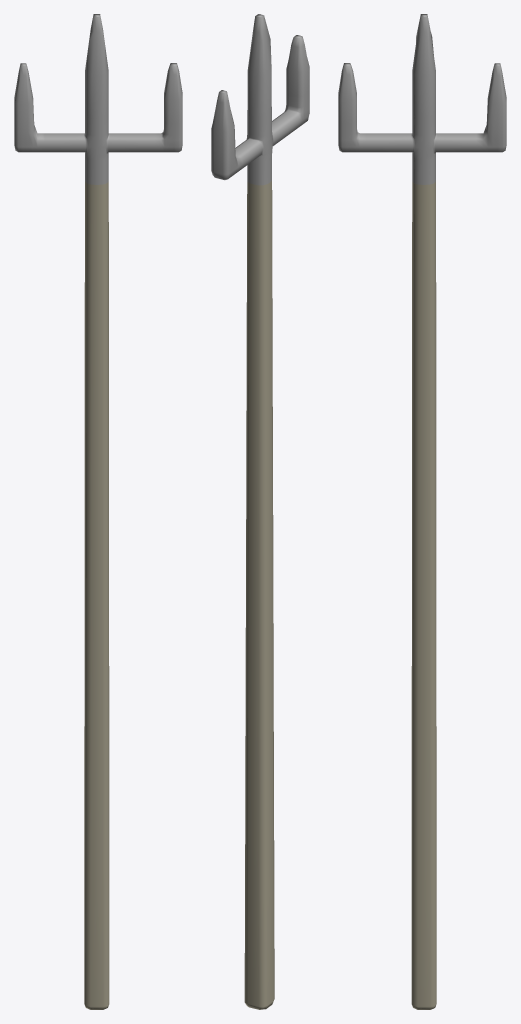
The model's file is pitchfork.fbx.
3 renders of one model, left to right at view 1: azimuth 90°, elevation 25°; view 2: azimuth 150°, elevation 25°; view 3: azimuth 270°, elevation 25°, orthographic.
Parts seen in each view (by area): view 1: pCube1; view 2: pCube1; view 3: pCube1.
Part boxes in pixels (x1,y1,x2,y2): pCube1: [14, 14, 182, 1009]; pCube1: [211, 14, 309, 1009]; pCube1: [338, 14, 506, 1009].
Bounding box in the file's own units: 7.08 × 308 × 47.44.
